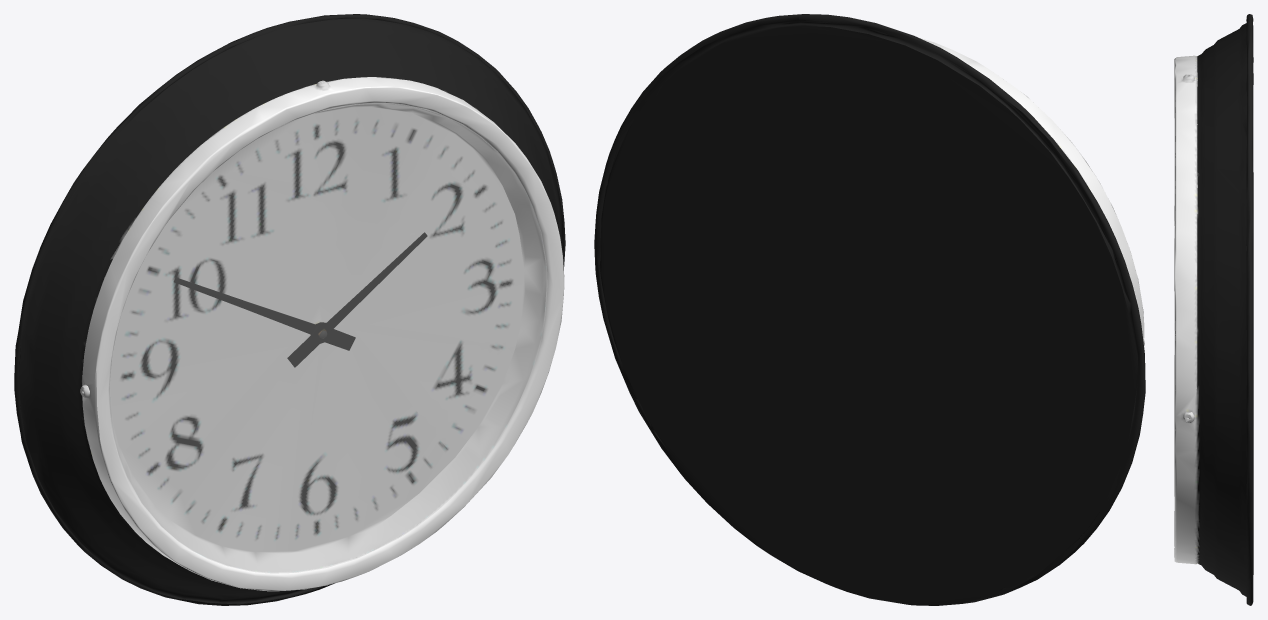
Rendered from bravur_zegar_scienny_60540473.glb.
3 renders of one model, left to right at view 1: azimuth 30°, elevation 25°; view 2: azimuth 150°, elevation 25°; view 3: azimuth 270°, elevation 25°, orthographic. The views are drawn at different scales.
Visible parts, largest first — view 1: bravur_zegar_scienny_60540473; view 2: bravur_zegar_scienny_60540473; view 3: bravur_zegar_scienny_60540473.
Boxes of the visible parts, x1,y1,x2,y2 form: bravur_zegar_scienny_60540473: [14, 14, 565, 605]; bravur_zegar_scienny_60540473: [594, 14, 1145, 605]; bravur_zegar_scienny_60540473: [1174, 14, 1253, 605].
Bounding box in the file's own units: 0.5899 × 0.5897 × 0.0789.
2 materials, 2 textured.
